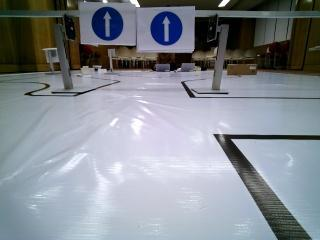straight: (136, 9, 197, 55), (80, 0, 138, 44)
